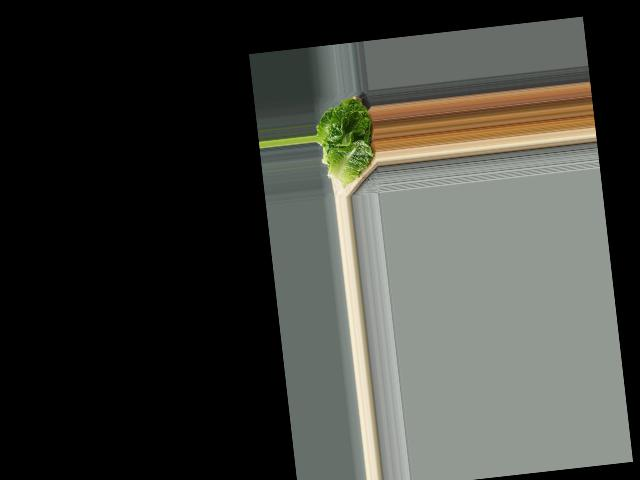lettuce: (312, 93, 379, 186)
